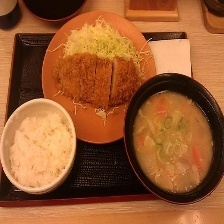rice: (2, 108, 75, 192)
